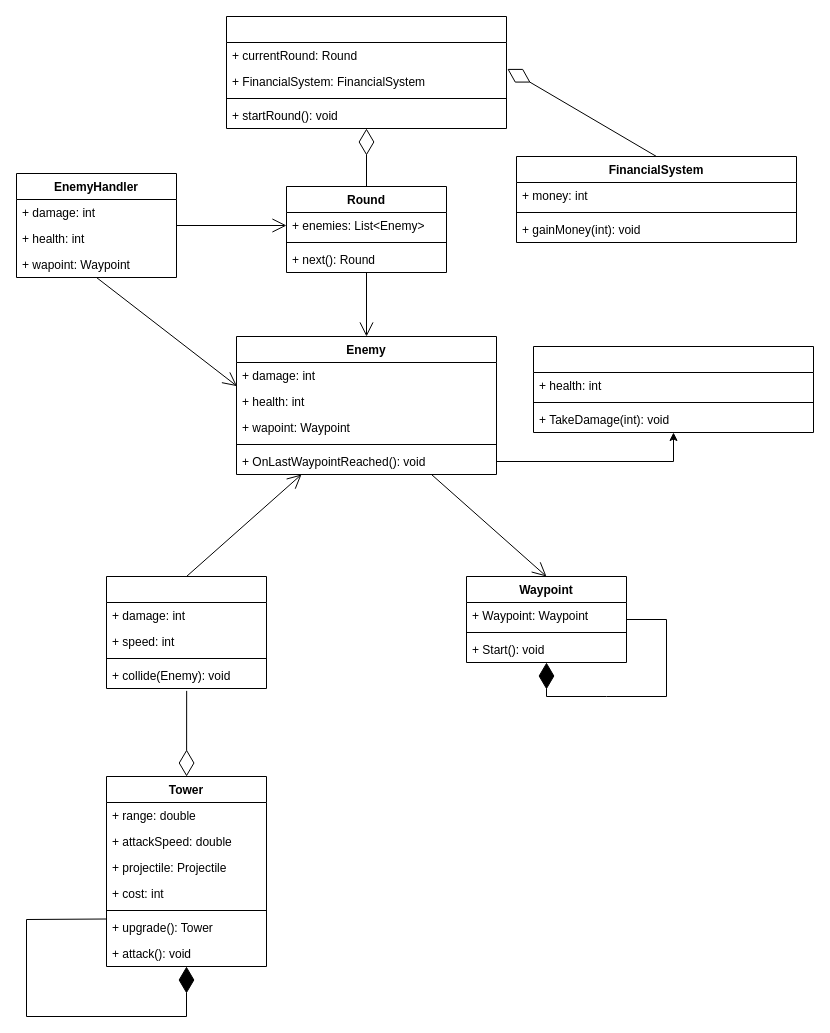
This 830x1033 diagram has some shape labels left out. Each missing label, with the box of its shape:
Game: (226, 16, 506, 128)
Laser: (106, 576, 266, 688)
Player: (532, 346, 814, 432)
